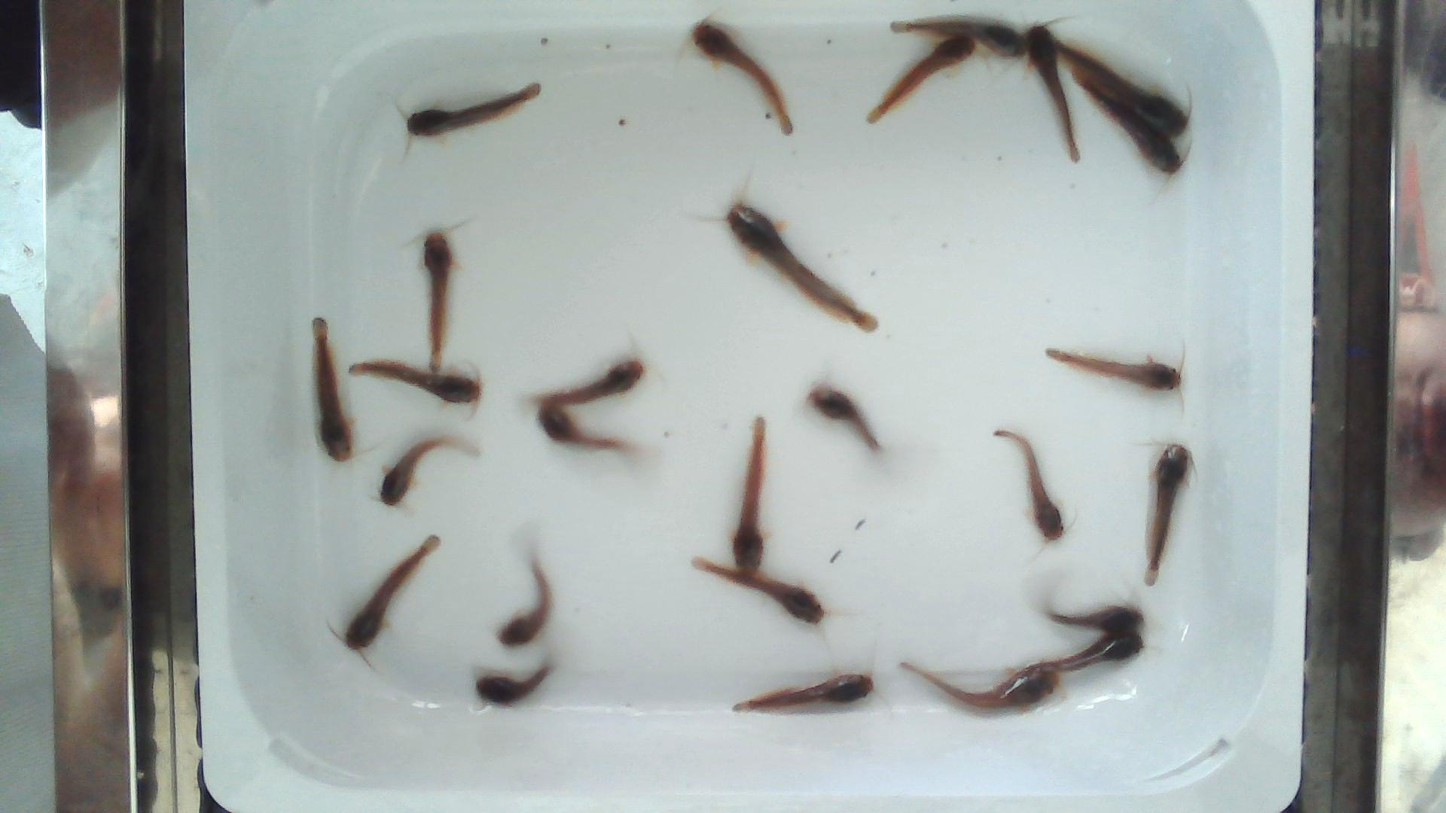lele: (726, 199, 877, 332), (1057, 38, 1191, 140), (1073, 71, 1183, 174), (693, 20, 790, 132), (345, 537, 438, 650), (692, 557, 825, 623), (867, 38, 965, 123), (901, 662, 1059, 713), (994, 431, 1064, 541), (1025, 24, 1079, 163), (408, 83, 541, 135), (1144, 443, 1191, 586), (1045, 348, 1182, 391), (311, 318, 352, 461), (350, 360, 481, 403), (892, 15, 1023, 56), (536, 361, 645, 410), (731, 416, 766, 568), (734, 674, 873, 712), (381, 436, 456, 505), (807, 383, 880, 451), (499, 555, 552, 647), (1049, 589, 1144, 638), (422, 230, 454, 373), (538, 411, 642, 454), (1041, 634, 1143, 665), (476, 666, 553, 703)
